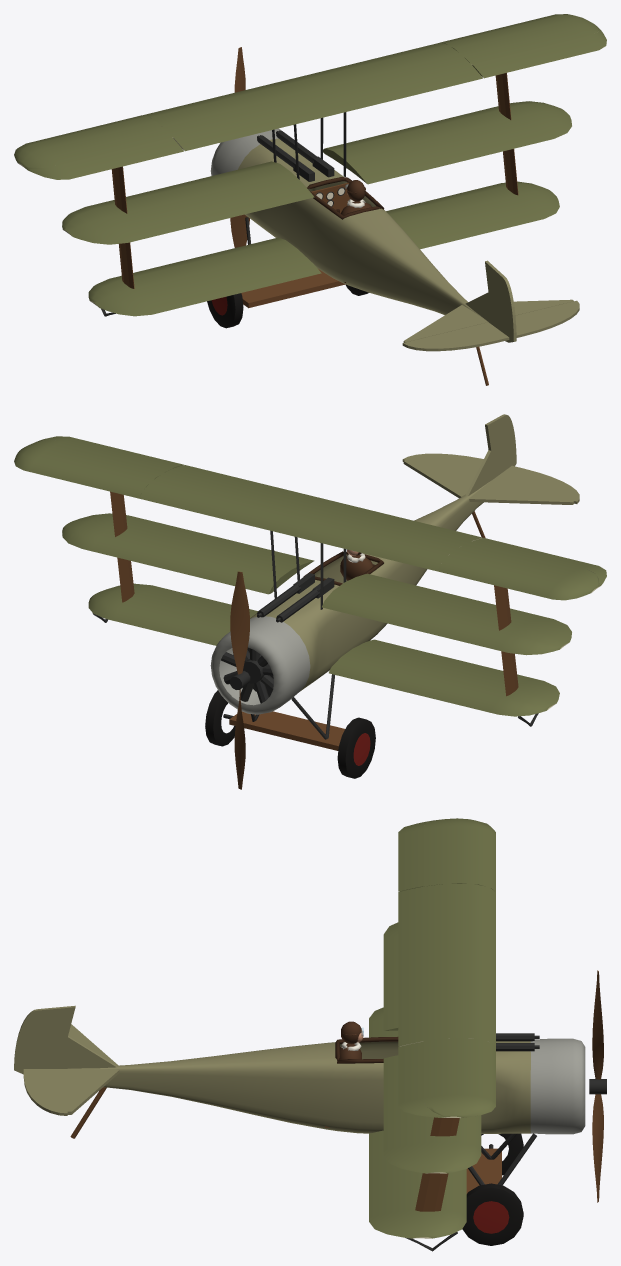
File: fokker_dri.glb
3 views of the same model, one above another, from view 1: azimuth 30°, elevation 25°; view 2: azimuth 150°, elevation 25°; view 3: azimuth 270°, elevation 25° (orthographic). The views are drawn at different scales.
Parts seen in each view (by area): view 1: Fuselage, Wing_Upper_L, Wing_Upper_R, Wing_Middle_L, Wing_Middle_R, Wing_Lower_L, Wing_Lower_R, Elevator, Struts, Aileron_L, Aileron_R, Undercarriage (+9 smaller); view 2: Wing_Upper_L, Wing_Upper_R, Wing_Middle_L, Wing_Middle_R, Wing_Lower_L, Fuselage, Wing_Lower_R, Cowling, Struts, Undercarriage, Wheels, Elevator (+10 smaller); view 3: Fuselage, Wing_Upper_R, Wing_Upper_L, Wing_Lower_R, Wing_Middle_R, Cowling, Wheels, Rudder, PropBlades, Undercarriage, Aileron_R, Elevator (+7 smaller).
Part boxes in pixels (left/top/right/bottom): Fuselage: left=238, top=138, right=486, bottom=320; Wing_Upper_L: left=14, top=79, right=333, bottom=168; Wing_Upper_R: left=292, top=14, right=599, bottom=114; Wing_Middle_L: left=62, top=161, right=314, bottom=244; Wing_Middle_R: left=323, top=101, right=571, bottom=184; Wing_Lower_L: left=88, top=237, right=321, bottom=316; Wing_Lower_R: left=386, top=181, right=559, bottom=249; Elevator: left=402, top=300, right=579, bottom=351; Struts: left=111, top=73, right=518, bottom=288; Aileron_L: left=25, top=137, right=183, bottom=179; Aileron_R: left=472, top=28, right=606, bottom=78; Undercarriage: left=101, top=217, right=488, bottom=385; Wing_Upper_L: left=288, top=501, right=599, bottom=600; Wing_Upper_R: left=14, top=439, right=333, bottom=534; Wing_Middle_L: left=322, top=573, right=571, bottom=655; Wing_Middle_R: left=62, top=513, right=314, bottom=594; Wing_Lower_L: left=329, top=639, right=559, bottom=716; Fuselage: left=250, top=482, right=488, bottom=691; Wing_Lower_R: left=88, top=583, right=257, bottom=645; Cowling: left=210, top=616, right=310, bottom=714; Struts: left=110, top=491, right=518, bottom=696; Undercarriage: left=92, top=511, right=538, bottom=750; Wheels: left=205, top=690, right=375, bottom=778; Elevator: left=402, top=453, right=579, bottom=503; Fuselage: left=71, top=1041, right=530, bottom=1133; Wing_Upper_R: left=398, top=960, right=495, bottom=1118; Wing_Upper_L: left=398, top=818, right=495, bottom=969; Wing_Lower_R: left=369, top=1130, right=466, bottom=1238; Wing_Middle_R: left=383, top=1055, right=481, bottom=1173; Cowling: left=530, top=1038, right=585, bottom=1134; Wheels: left=462, top=1133, right=523, bottom=1245; Rudder: left=14, top=1005, right=75, bottom=1074; PropBlades: left=589, top=970, right=606, bottom=1202; Undercarriage: left=70, top=1087, right=536, bottom=1251; Aileron_R: left=398, top=1041, right=445, bottom=1117; Elevator: left=23, top=1069, right=67, bottom=1115.
Size of the model in its own units: 7.19 by 2.81 by 6.06.
